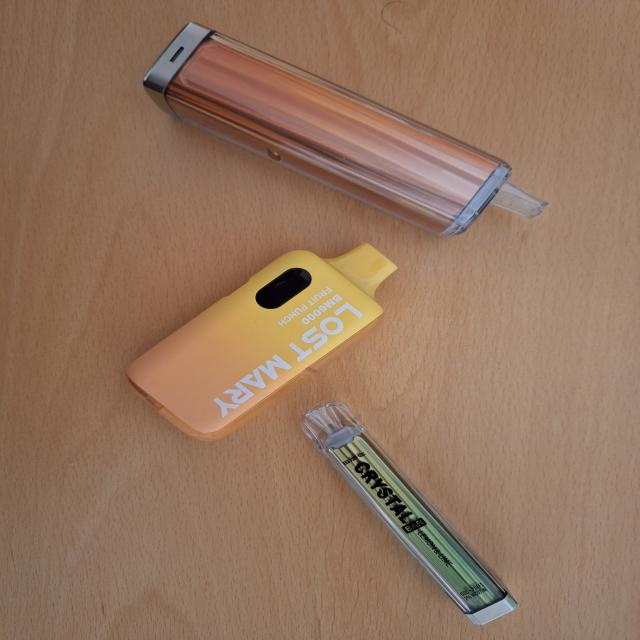Hazard: (141, 21, 549, 238), (124, 241, 398, 442), (299, 401, 519, 626)
